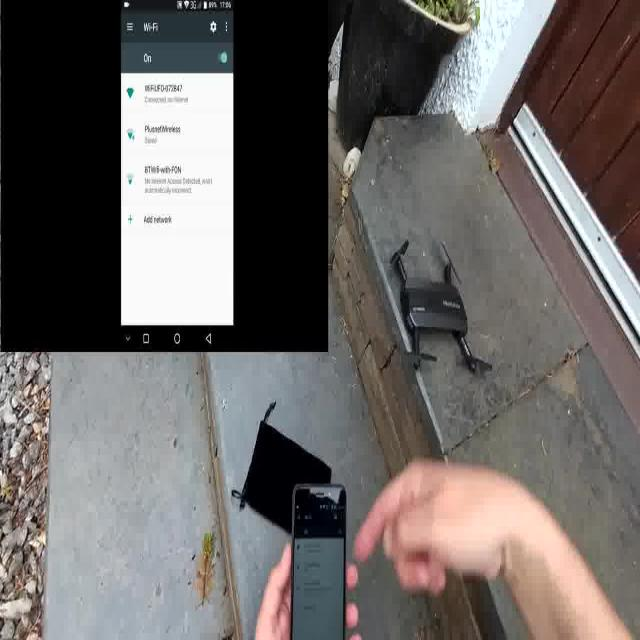drone: (388, 238, 494, 380)
